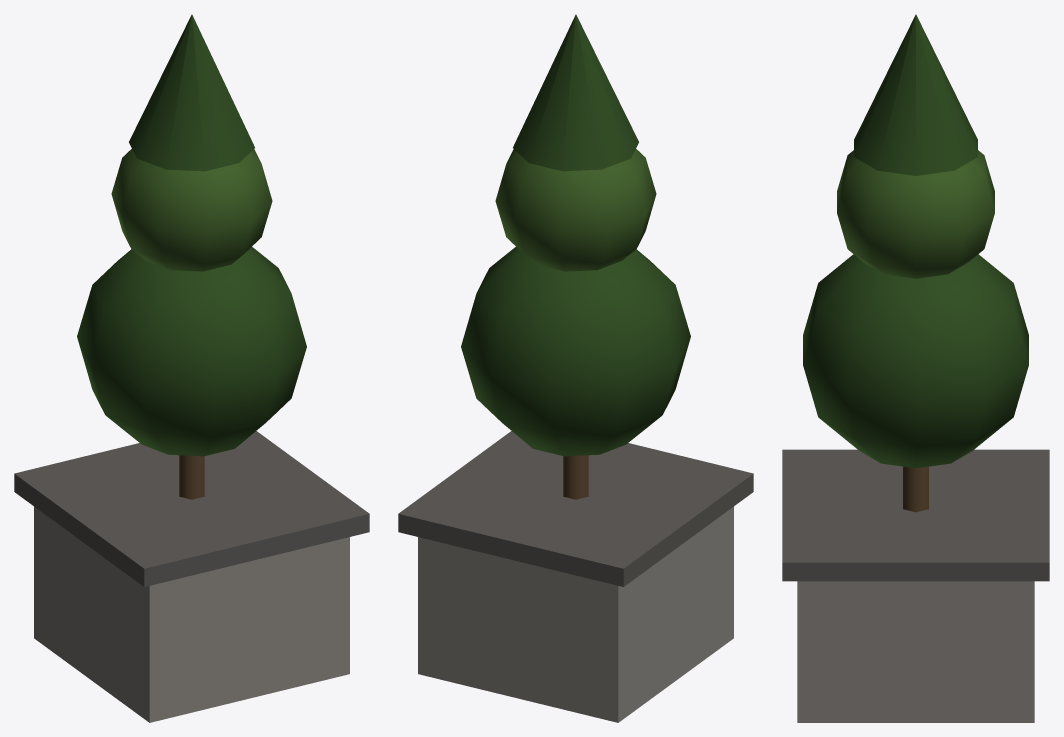
The model's file is ge_topiary.glb.
3 renders of one model, left to right at view 1: azimuth 30°, elevation 25°; view 2: azimuth 150°, elevation 25°; view 3: azimuth 270°, elevation 25°, orthographic. The views are drawn at different scales.
Parts seen in each view (by area): view 1: ge_topiary; view 2: ge_topiary; view 3: ge_topiary.
Part boxes in pixels (bbox=[...]): ge_topiary: bbox=[14, 14, 369, 722]; ge_topiary: bbox=[398, 14, 753, 722]; ge_topiary: bbox=[782, 14, 1049, 722].
Bounding box in the file's own units: 0.9 × 2.45 × 0.9.
